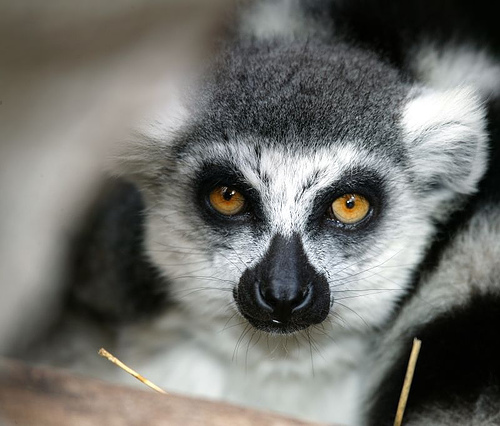cat: (0, 0, 498, 424)
